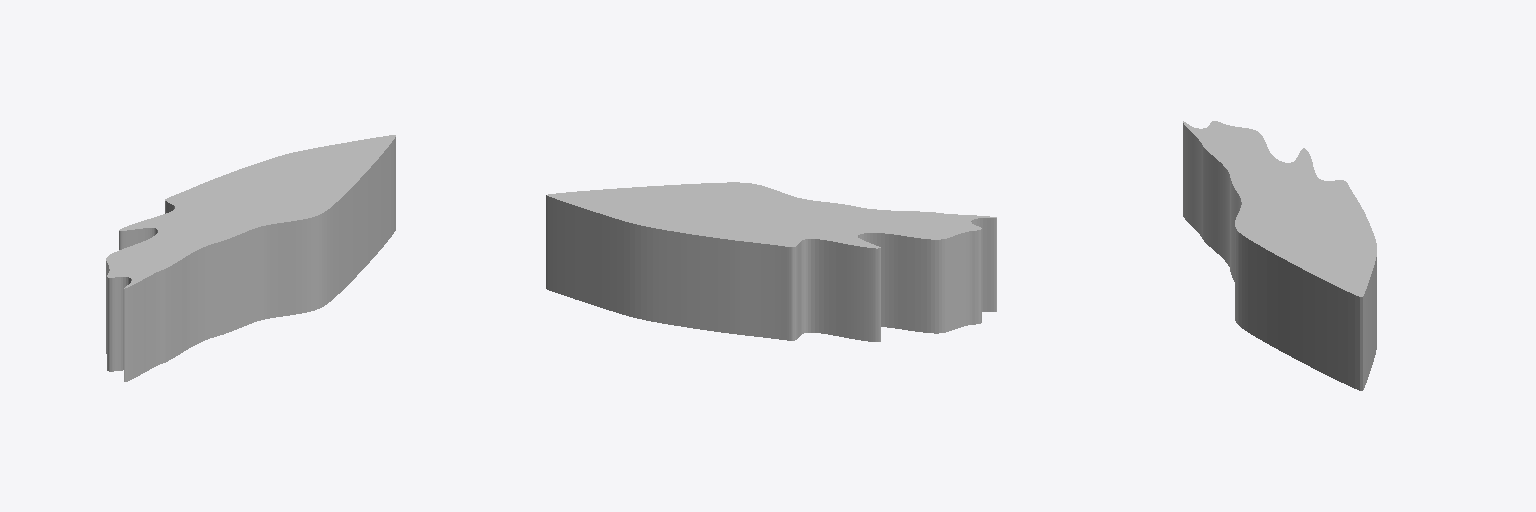
Rendered from North_America_01.obj.
3 views of the same model, side by side, from view 1: azimuth 30°, elevation 25°; view 2: azimuth 150°, elevation 25°; view 3: azimuth 270°, elevation 25° (orthographic).
Parts seen in each view (by area): view 1: North_America_01_path4204; view 2: North_America_01_path4204; view 3: North_America_01_path4204.
Boxes of the visible parts, x1,y1,x2,y2 form: North_America_01_path4204: [106, 135, 395, 381]; North_America_01_path4204: [546, 182, 996, 341]; North_America_01_path4204: [1183, 121, 1376, 390].
Size of the model in its own units: 0.4036 by 0.1 by 0.1879.